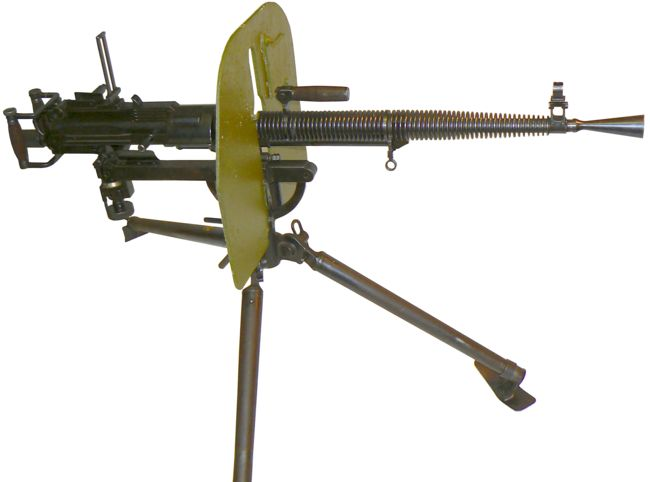rifle: (3, 22, 635, 469)
